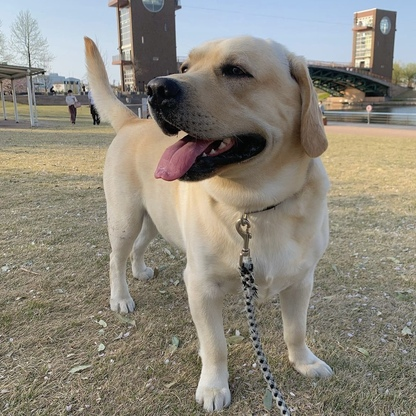labrado: (80, 31, 336, 414)
